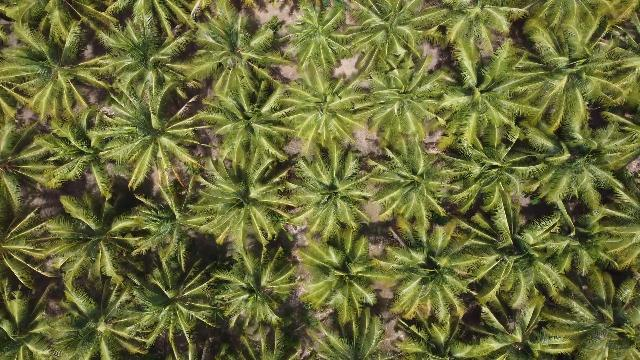trees: (503, 5, 639, 145), (373, 223, 490, 342), (94, 83, 218, 193), (517, 126, 639, 237), (191, 147, 302, 258), (461, 211, 571, 322), (442, 122, 551, 231), (24, 195, 142, 295), (194, 65, 298, 169), (96, 4, 201, 103), (366, 139, 464, 242), (39, 270, 151, 360), (126, 254, 223, 354), (349, 52, 445, 153), (287, 141, 380, 245), (294, 232, 389, 333), (206, 242, 301, 343), (534, 270, 638, 360), (12, 109, 114, 195), (276, 64, 367, 153), (427, 2, 526, 83), (347, 2, 431, 70), (2, 280, 71, 360), (284, 3, 355, 77)
